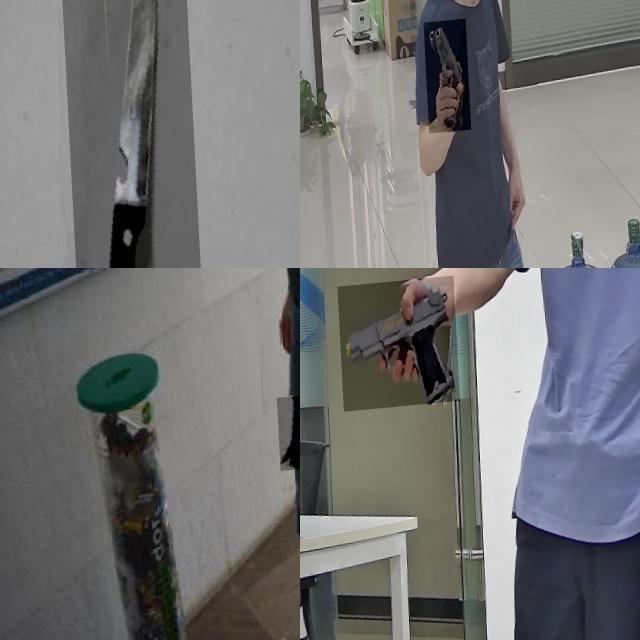-: (57, 0, 205, 268), (272, 399, 300, 477)
gun-knife-thesis - v11 Yolov5 augmented: (336, 280, 457, 414), (422, 24, 468, 138)
